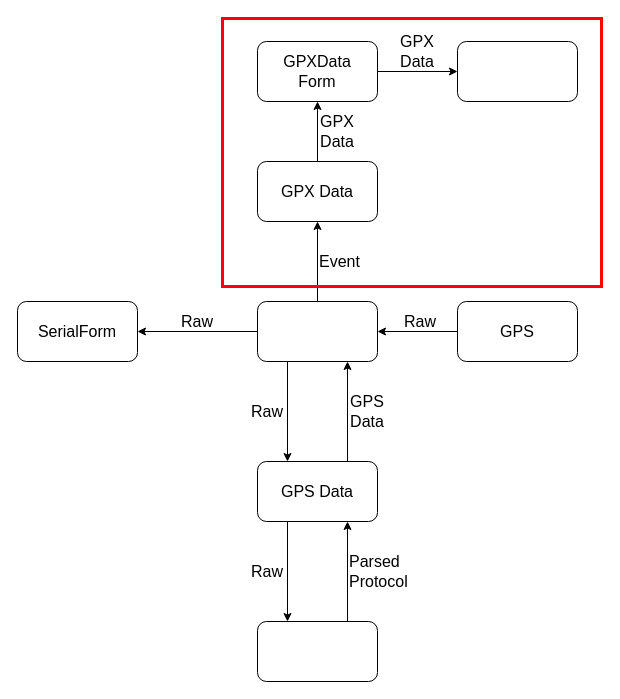
Some shapes in this 620 by 699 pixel diagram are drawn without their labels. Here are the shapes that lost their labels. From the top down, the centre of each, then its label:
At (517,71): "GPXViewer Form".
At (317,331): "MainForm".
At (317,651): "GPS Parser".
